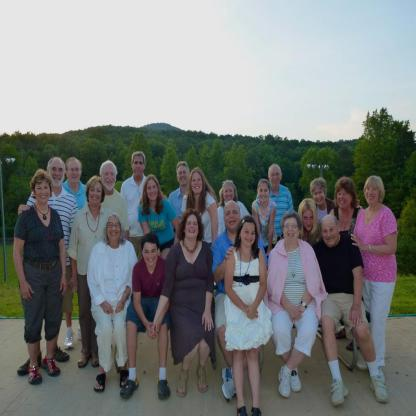face: (226, 206, 241, 231), (323, 223, 339, 246), (242, 224, 256, 248), (108, 218, 122, 241), (144, 244, 158, 266), (36, 182, 51, 202), (338, 188, 352, 209), (366, 183, 380, 204), (51, 163, 64, 185), (68, 163, 82, 183), (286, 220, 299, 241), (103, 169, 116, 189), (90, 184, 102, 205), (187, 218, 199, 238), (192, 174, 203, 194), (148, 182, 159, 201), (134, 158, 145, 176), (179, 168, 190, 186), (271, 169, 282, 187), (304, 212, 315, 230), (315, 189, 326, 205), (259, 186, 269, 202), (225, 187, 235, 202)
